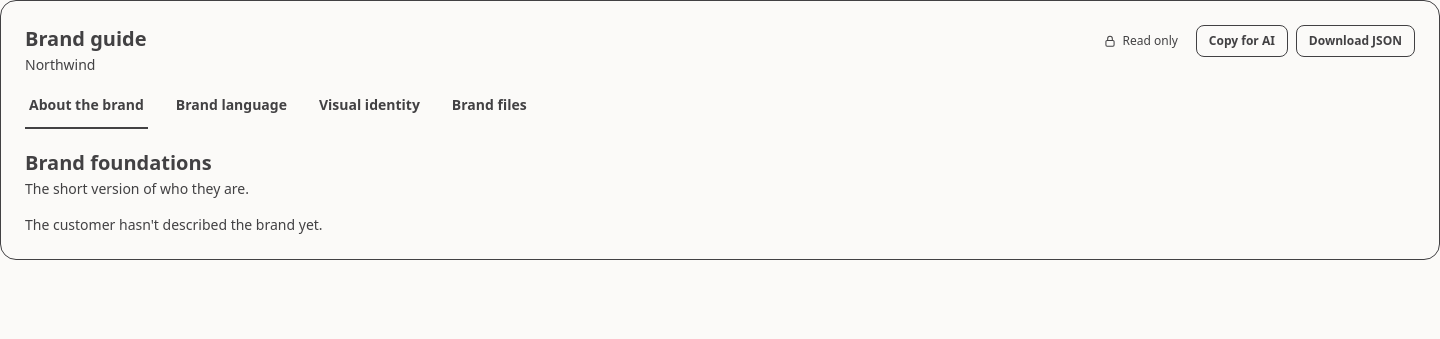
TicketBrandGuide › names a file by its short name when it has one
The image size is (1440, 339).
What coordinates should you click on to do the following:
click the tab "Brand files"
I would click on:
 (489, 110)
Its box is x1=448 y1=91 x2=531 y2=129.
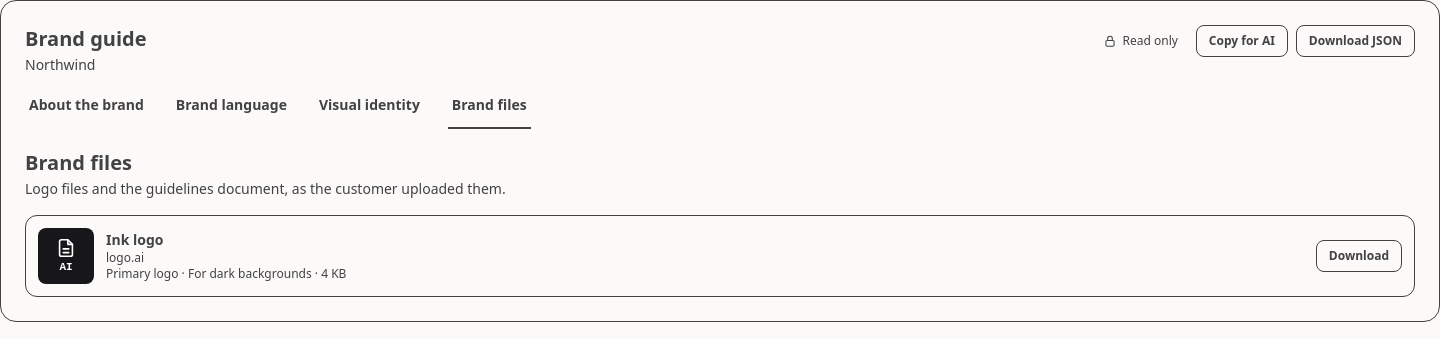
Result: the text "Ink logo" is shown at x1=106 y1=230 x2=163 y2=249
Result: the text "logo.ai" is shown at x1=106 y1=249 x2=144 y2=266
